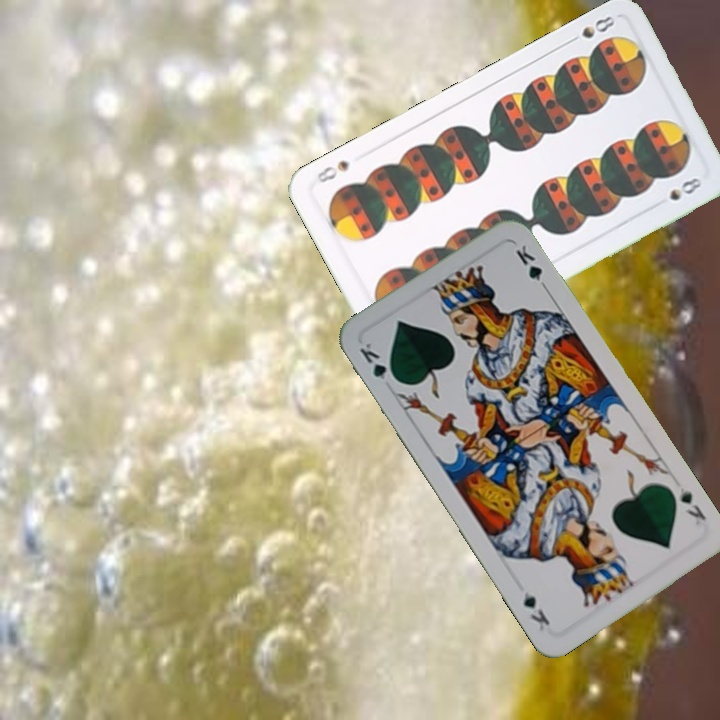GK: (355, 338, 401, 387), (674, 483, 709, 523)
S8: (563, 11, 618, 46)
